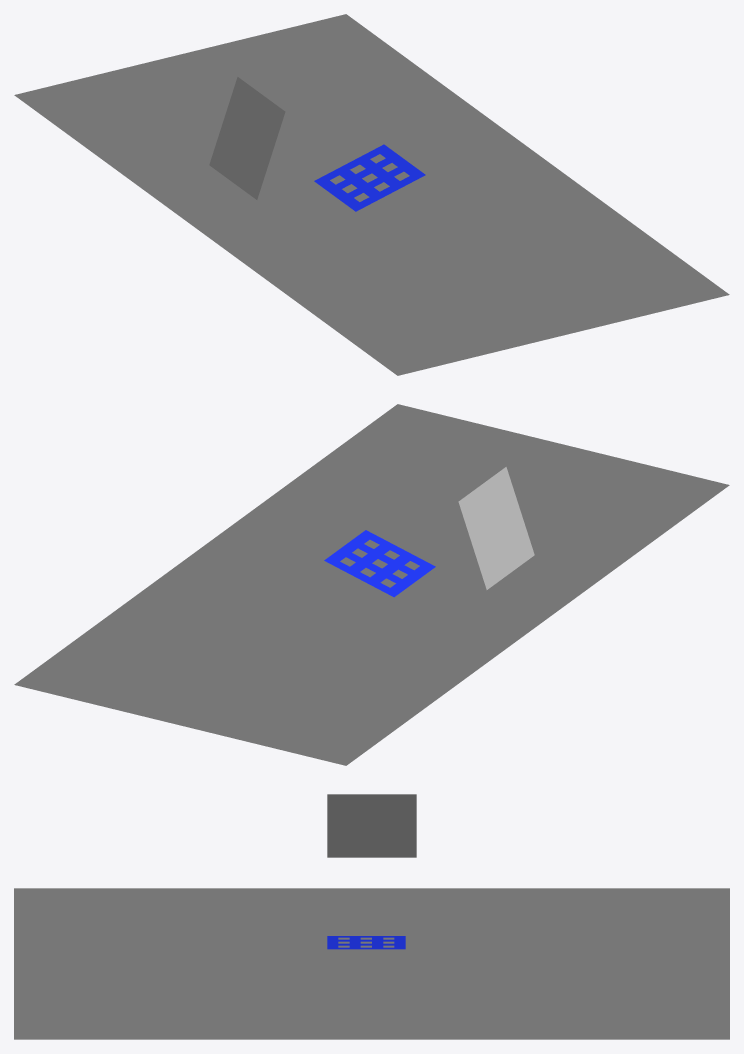
3 renders of one model, top to bottom at view 1: azimuth 30°, elevation 25°; view 2: azimuth 150°, elevation 25°; view 3: azimuth 270°, elevation 25°, orthographic. The views are drawn at different scales.
Visible parts, largest first — view 1: floor_diffuse, light, grid; view 2: floor_diffuse, light, grid; view 3: floor_diffuse, light, grid.
Part boxes in pixels (<box>): floor_diffuse: <box>14,14,729,375</box>; light: <box>209,77,285,199</box>; grid: <box>314,144,425,211</box>; floor_diffuse: <box>14,404,729,765</box>; light: <box>458,467,534,589</box>; grid: <box>324,530,435,597</box>; floor_diffuse: <box>14,888,729,1039</box>; light: <box>327,794,416,857</box>; grid: <box>327,936,405,949</box>.
Bounding box in the file's own units: 8 × 2.94 × 16.
